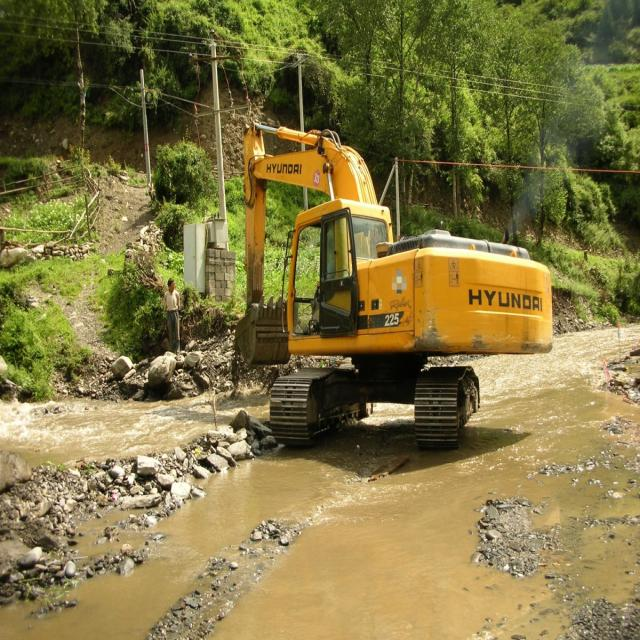excavator: (233, 118, 553, 449)
